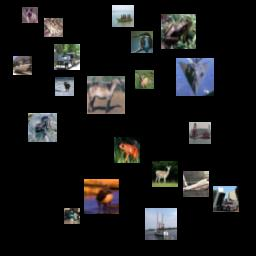airplane: (176, 58, 214, 96), (183, 171, 209, 197)
automobile: (64, 208, 80, 224)
bird: (131, 31, 153, 53)
cat: (22, 7, 38, 23)
deer: (84, 179, 119, 214), (152, 161, 178, 187), (55, 77, 74, 96), (135, 70, 154, 89)
frog: (161, 14, 196, 49), (28, 113, 57, 142), (114, 137, 140, 163), (44, 18, 63, 37)
ship: (145, 208, 177, 240), (189, 122, 211, 144), (112, 5, 134, 27), (13, 56, 32, 75)
truck: (213, 186, 239, 212), (54, 44, 80, 70)
